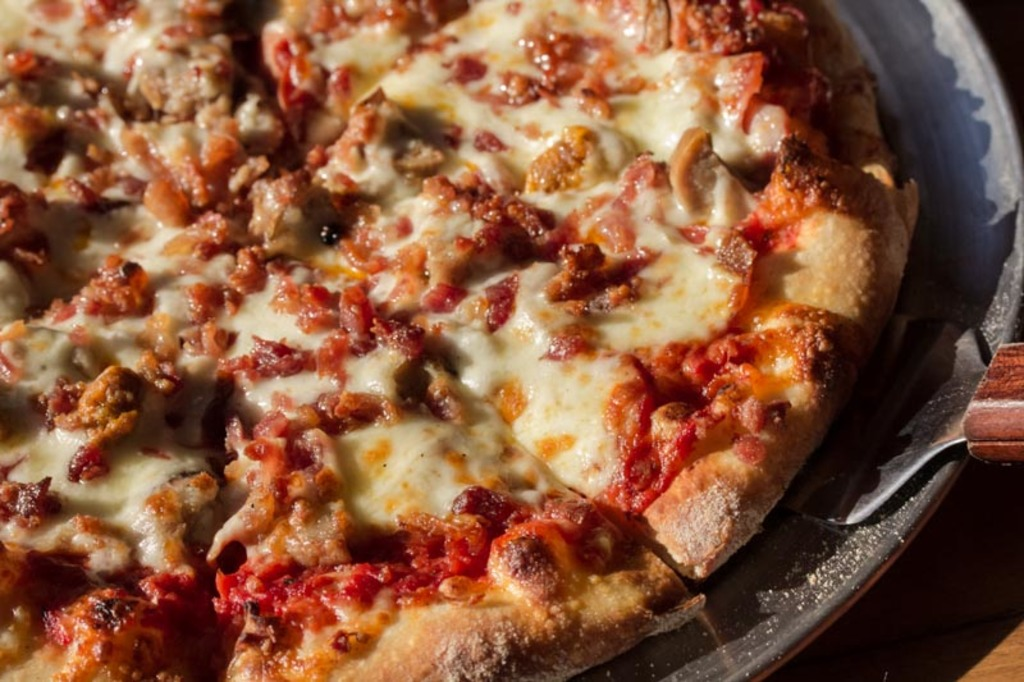Pizza: (24, 0, 953, 675)
